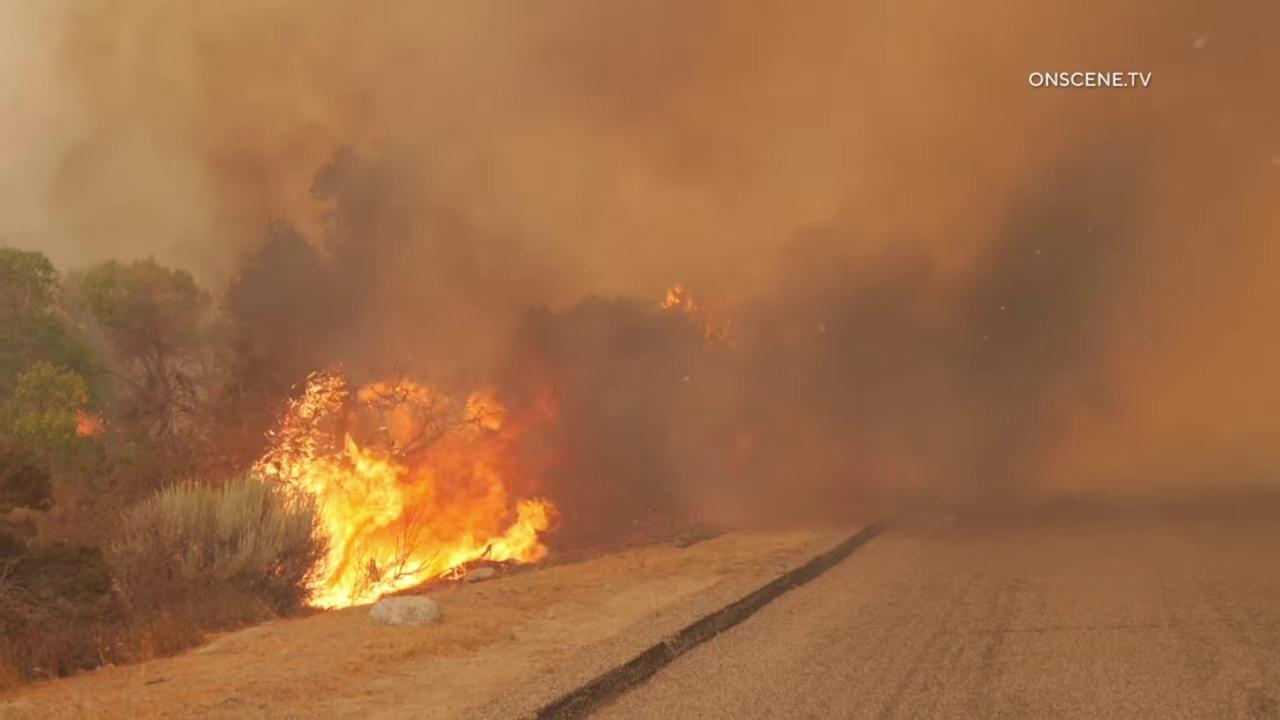fire: (239, 359, 573, 614), (656, 284, 738, 347), (68, 409, 112, 443)
smoke: (0, 0, 1280, 552)
